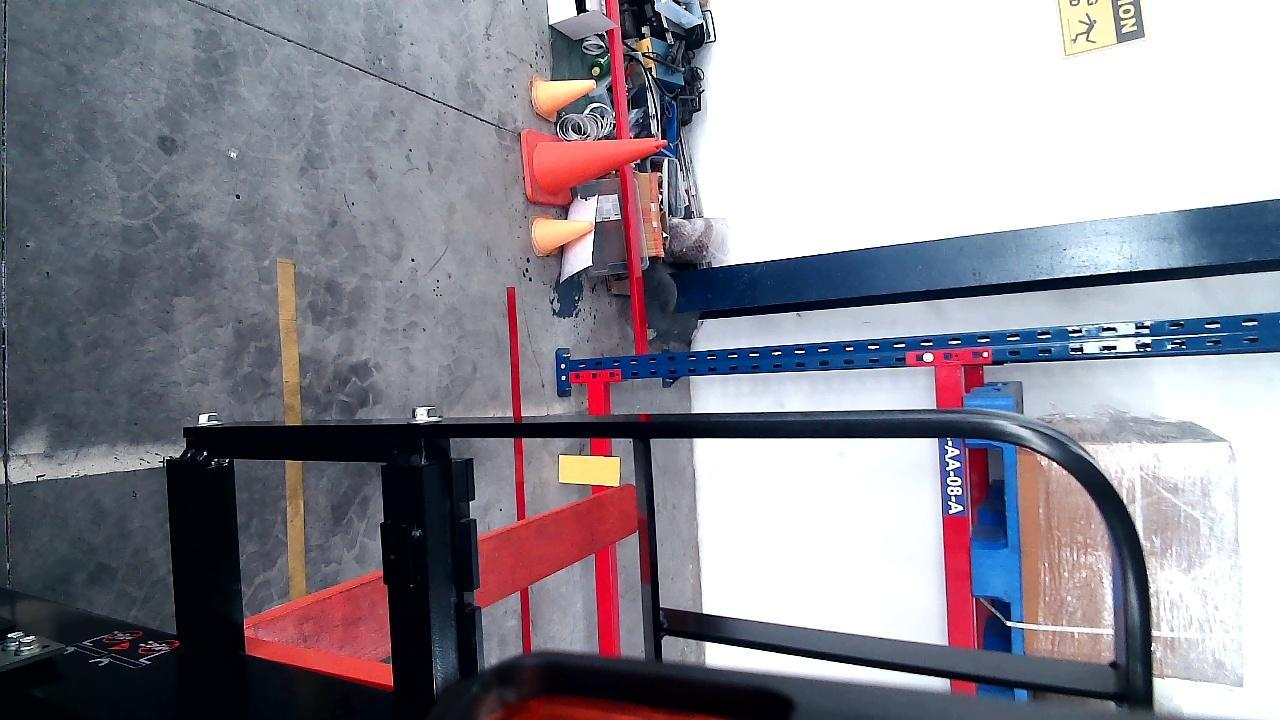red_line: (506, 285, 533, 653)
yellow_line: (275, 253, 307, 606)
